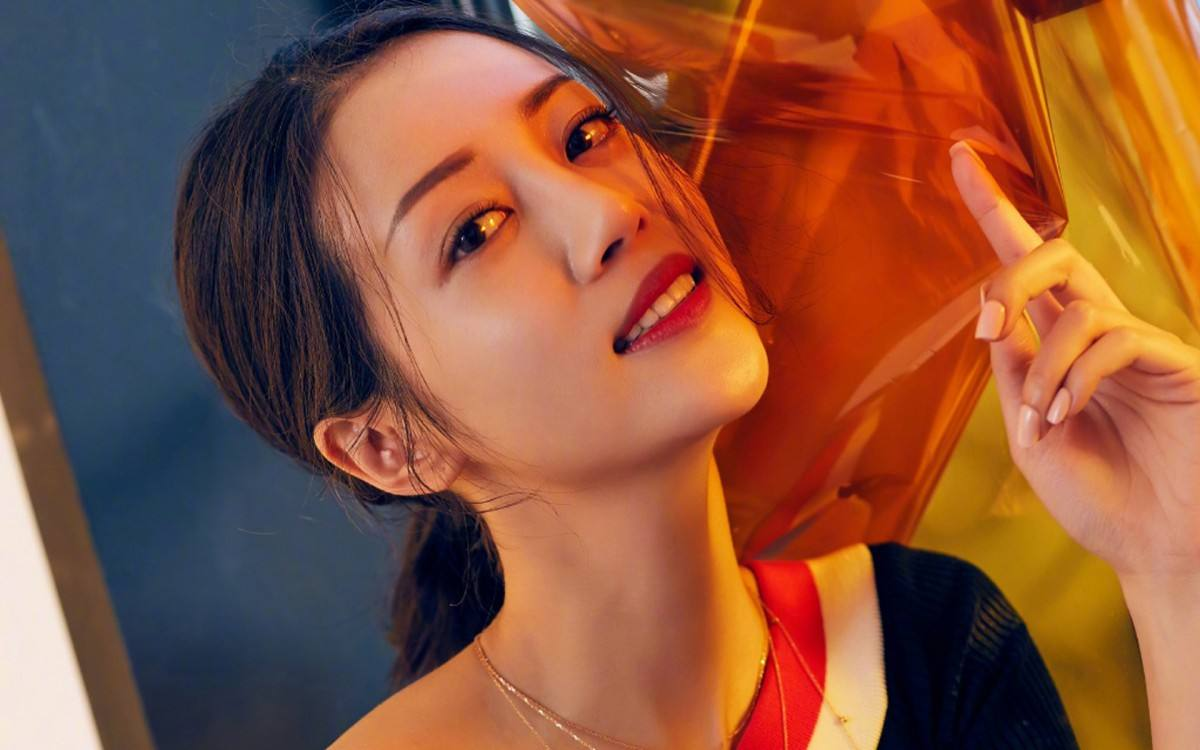person: (99, 31, 992, 679)
